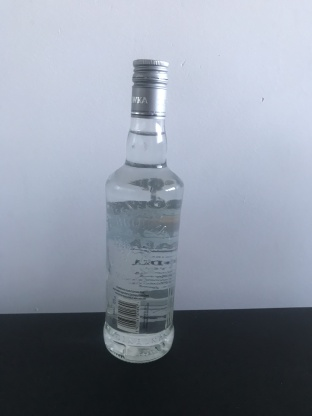nakretka: (129, 57, 170, 121)
